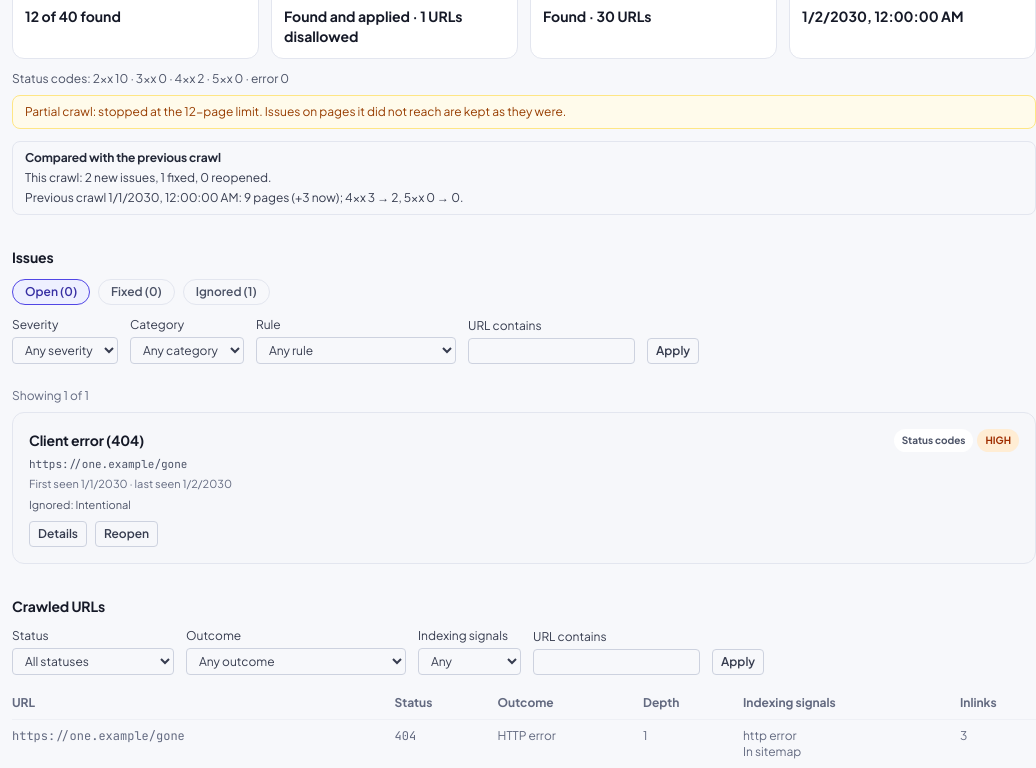
TechnicalHealthPage › asks for confirmation before reopening an ignored issue
(page scrolled)
Click the button named "Reopen Client error": (127, 534) [95, 521, 158, 547]
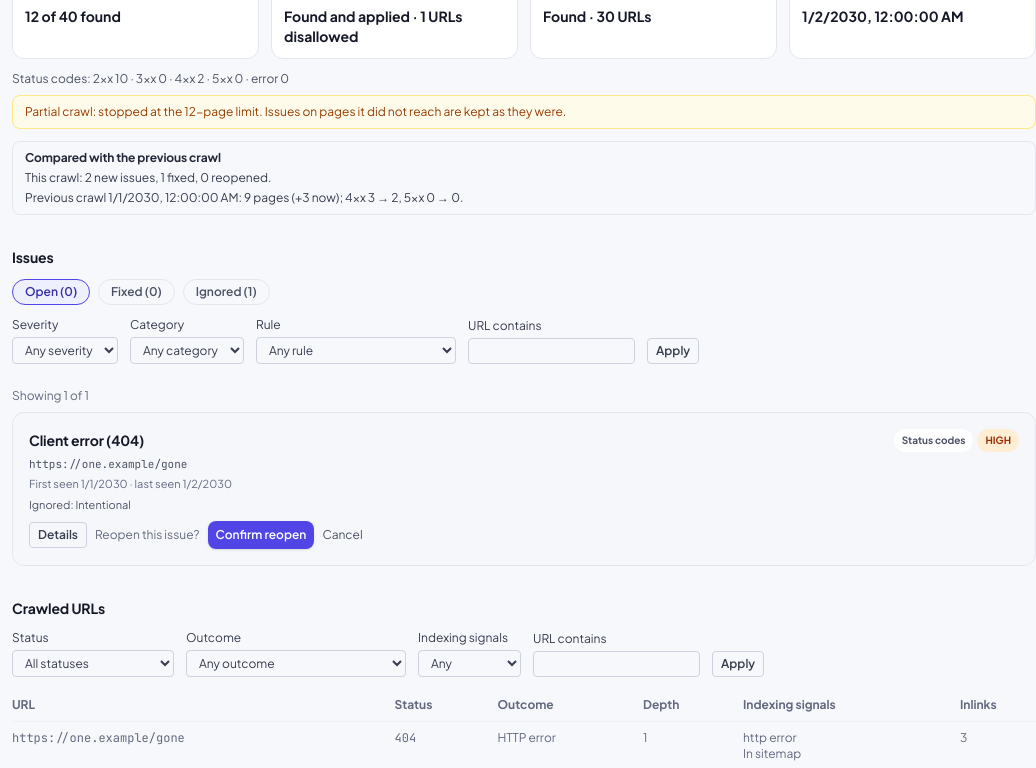
Click the button "Confirm reopen": (261, 535) [208, 521, 314, 549]
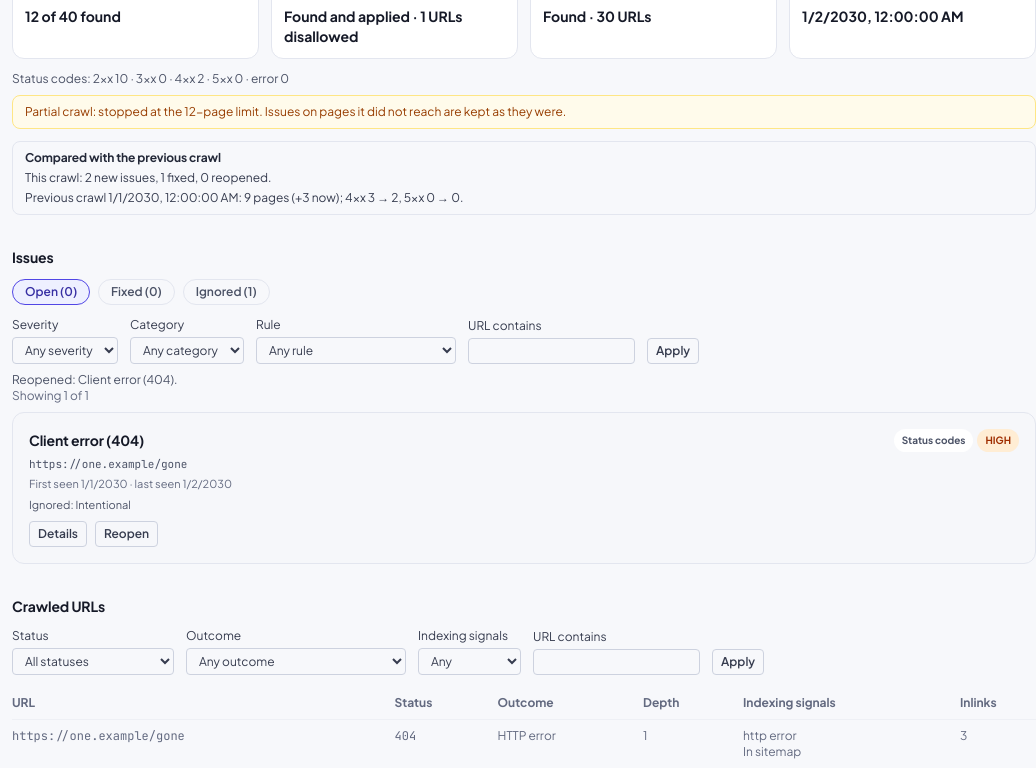
Expected: the text "Reopened: Client error (404)." is shown, [12, 372, 177, 387]
